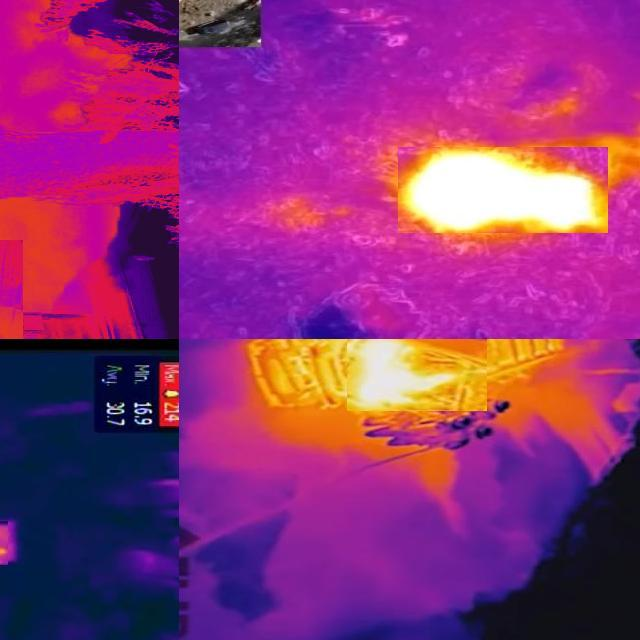fire: (398, 148, 608, 234), (347, 340, 487, 412)
